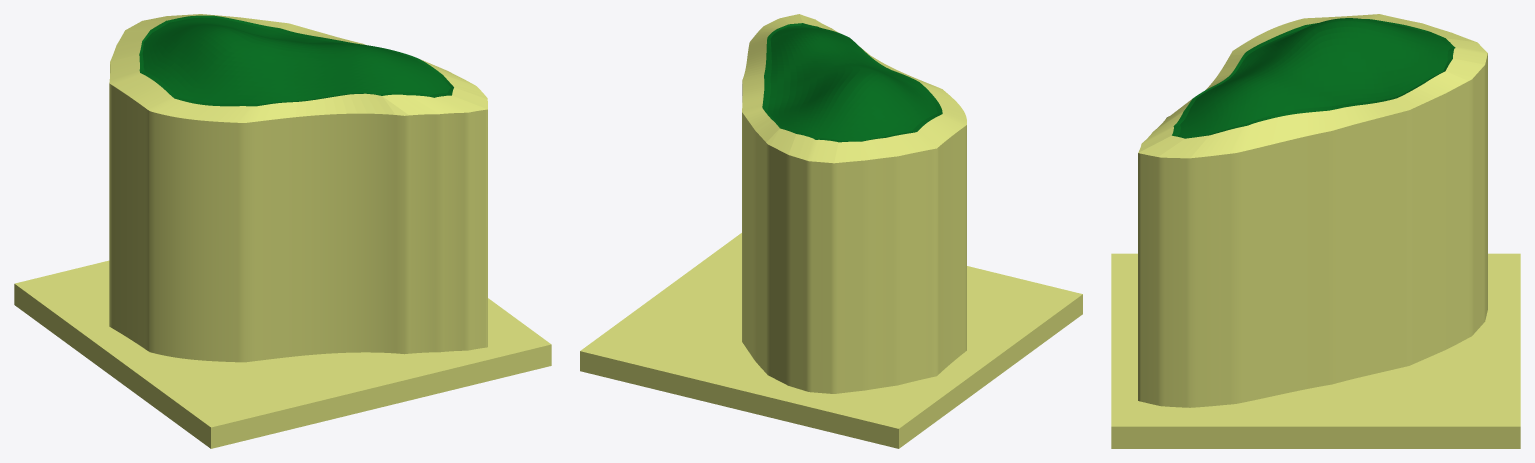
The model's file is Wild_Medium_Island_03.fbx.
The picture shows the model from 3 angles, left to right: view 1: azimuth 30°, elevation 25°; view 2: azimuth 150°, elevation 25°; view 3: azimuth 270°, elevation 25°; orthographic projection. The views are drawn at different scales.
Parts seen in each view (by area): view 1: Wild_Medium_Island_03; view 2: Wild_Medium_Island_03; view 3: Wild_Medium_Island_03.
Boxes of the visible parts, x1,y1,x2,y2 form: Wild_Medium_Island_03: [14, 14, 551, 448]; Wild_Medium_Island_03: [580, 14, 1082, 448]; Wild_Medium_Island_03: [1111, 14, 1520, 448].
Bounding box in the file's own units: 68.06 × 58.08 × 68.06.
